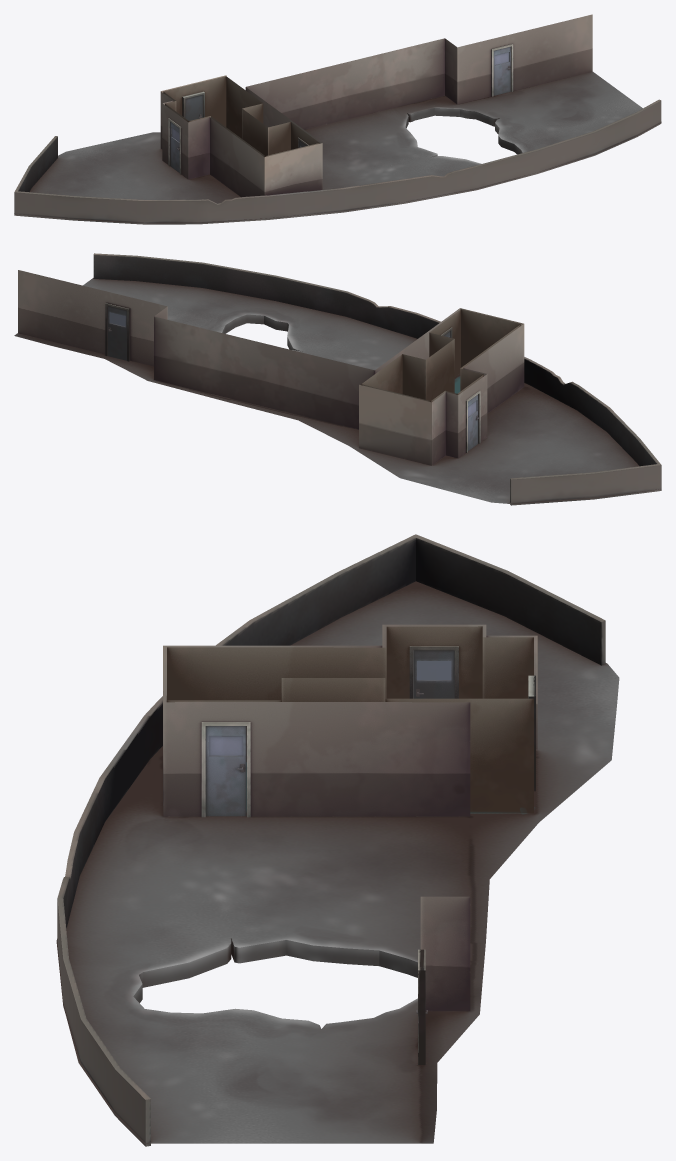
Rendered from Level+texture.fbx.
The picture shows the model from 3 angles, top to bottom: view 1: azimuth 30°, elevation 25°; view 2: azimuth 150°, elevation 25°; view 3: azimuth 270°, elevation 25°; orthographic projection. The views are drawn at different scales.
Parts seen in each view (by area): view 1: muur2, grond, rand, muur1, deur (×2), Nepdeur, Kozijn; view 2: muur2, grond, rand, muur1, deur (×2), Kozijn; view 3: grond, muur2, rand, muur1, deur (×2), Kozijn (×2).
Part boxes in pixels (x1,y1,x2,y2): muur2: (160, 14, 592, 197); grond: (15, 71, 661, 223); rand: (14, 99, 661, 224); muur1: (163, 76, 319, 156); deur (×2): (170, 46, 510, 172); Nepdeur: (182, 91, 204, 120); Kozijn: (491, 44, 513, 96); muur2: (18, 270, 524, 465); grond: (14, 278, 661, 503); rand: (93, 253, 661, 505); muur1: (361, 309, 520, 402); deur (×2): (107, 306, 478, 450); Kozijn: (105, 302, 130, 361); grond: (56, 581, 619, 1143); muur2: (163, 624, 537, 1011); rand: (57, 534, 605, 1146); muur1: (166, 626, 533, 813); deur (×2): (205, 650, 454, 816); Kozijn (×2): (201, 722, 425, 1064).
Bounding box in the file's own units: 2591 × 278 × 1088.
